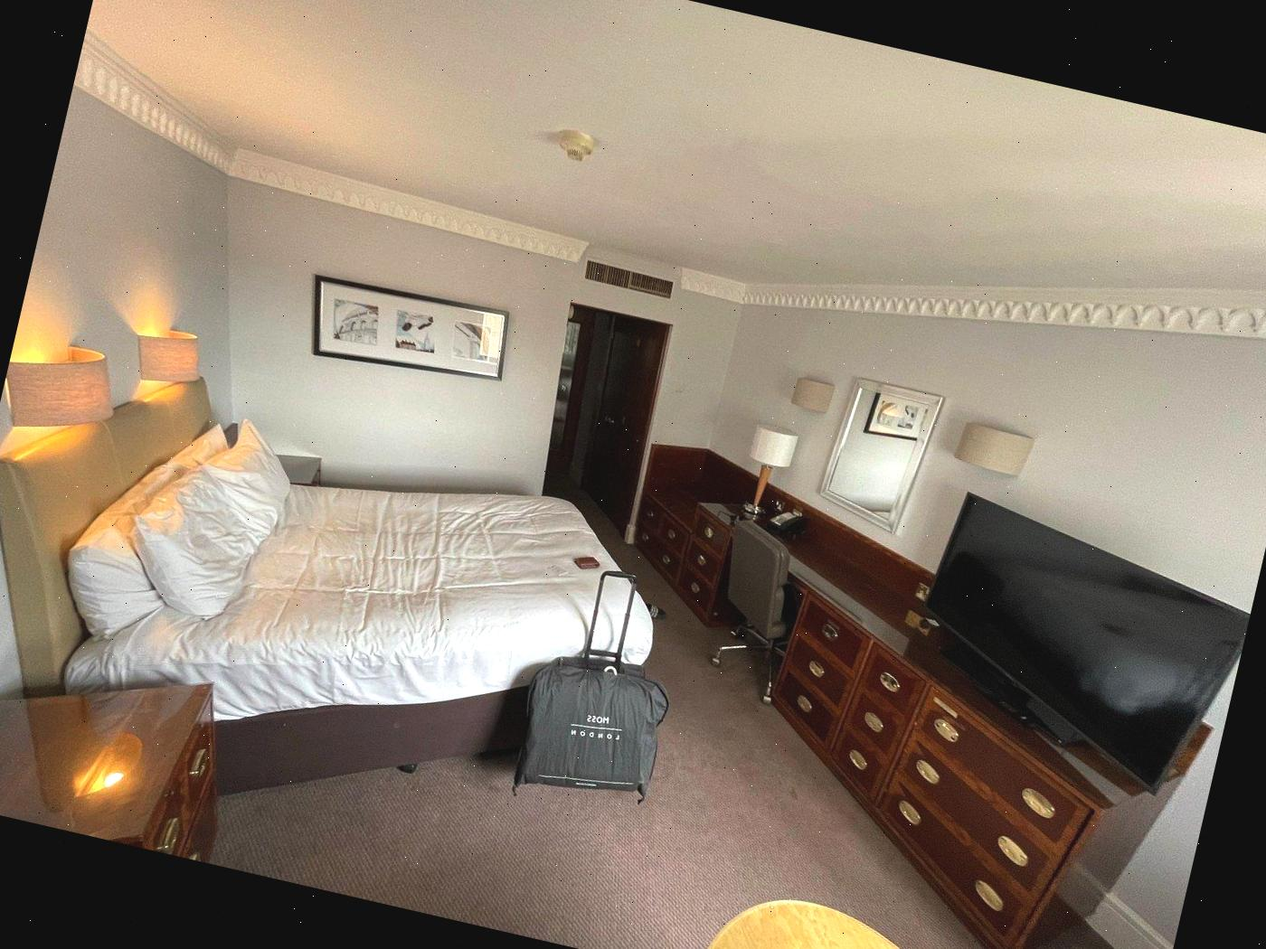chair: (698, 516, 804, 705)
clean_bed: (18, 372, 652, 719)
lamp: (726, 426, 800, 526)
organised_pillow: (66, 420, 303, 638)
organized table: (628, 465, 1170, 949)
